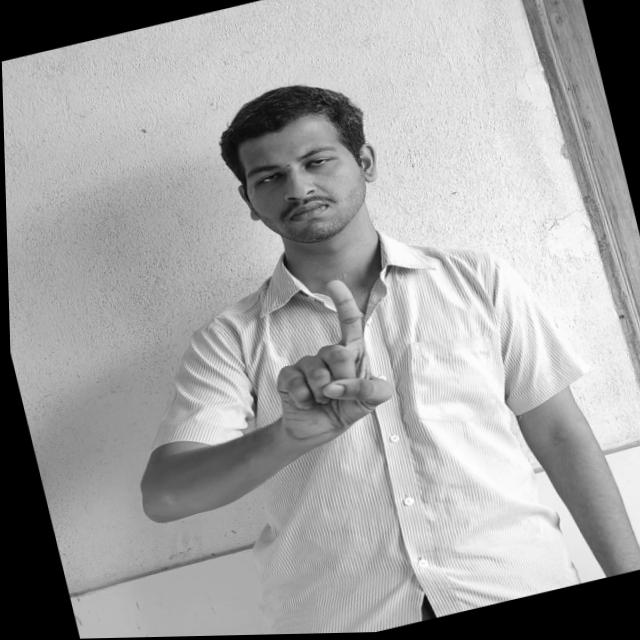Question: (249, 271, 403, 448)
